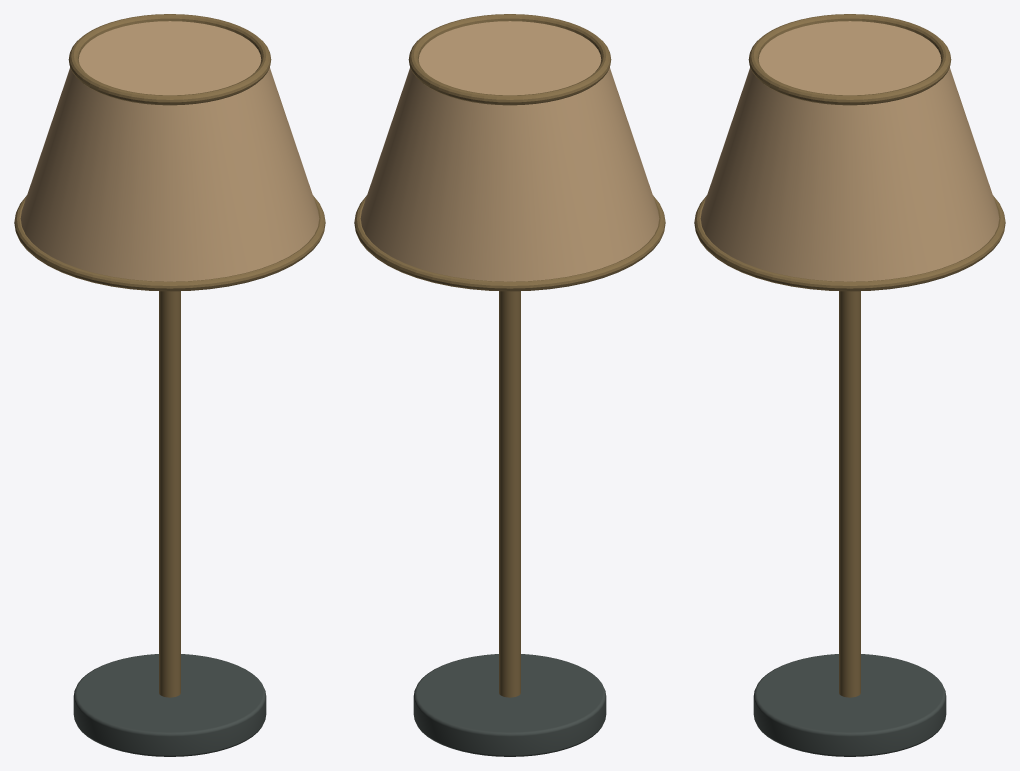
Rendered from floor-lamp.glb.
The picture shows the model from 3 angles, left to right: view 1: azimuth 30°, elevation 25°; view 2: azimuth 150°, elevation 25°; view 3: azimuth 270°, elevation 25°; orthographic projection.
Visible parts, largest first — view 1: Linen shade, Weighted ceramic foot, Brass stem, Torus.001, Torus; view 2: Linen shade, Weighted ceramic foot, Brass stem, Torus.001, Torus; view 3: Linen shade, Weighted ceramic foot, Brass stem, Torus.001, Torus.
Part boxes in pixels (<box>): Linen shade: <box>20,21,319,281</box>; Weighted ceramic foot: <box>73,654,266,756</box>; Brass stem: <box>159,291,180,697</box>; Torus.001: <box>68,14,271,105</box>; Torus: <box>14,195,325,291</box>; Linen shade: <box>360,21,659,281</box>; Weighted ceramic foot: <box>413,654,606,756</box>; Brass stem: <box>499,291,520,697</box>; Torus.001: <box>408,14,611,105</box>; Torus: <box>354,195,665,291</box>; Linen shade: <box>700,21,999,281</box>; Weighted ceramic foot: <box>753,654,946,756</box>; Brass stem: <box>839,291,860,697</box>; Torus.001: <box>748,14,951,105</box>; Torus: <box>694,195,1005,291</box>.
Size of the model in its own units: 0.744 by 1.75 by 0.744.
